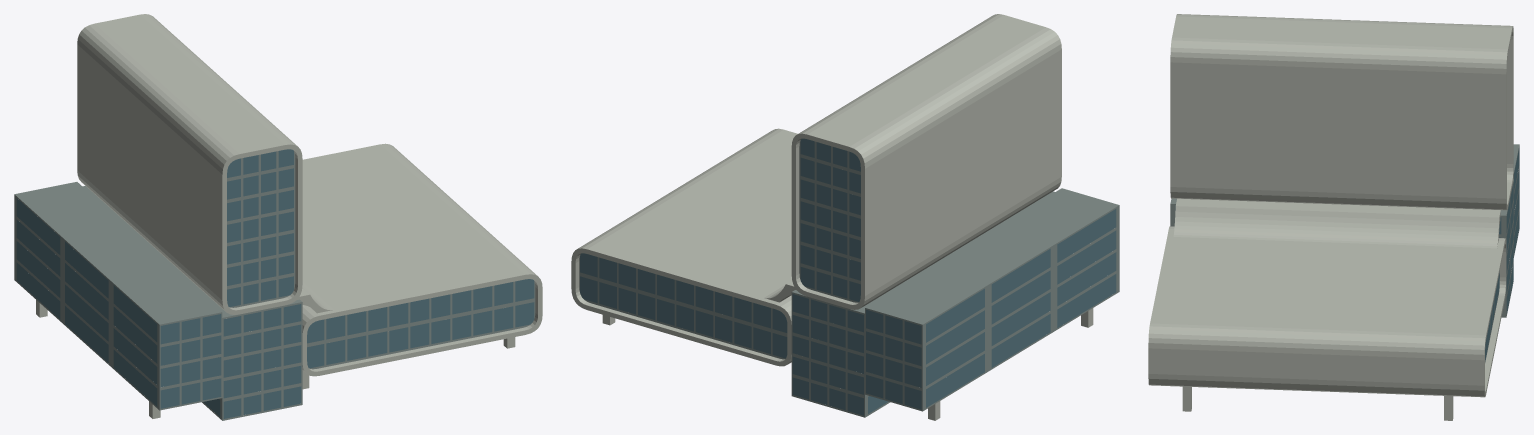
The model's file is rai-elicium-near.glb.
The picture shows the model from 3 angles, left to right: view 1: azimuth 30°, elevation 25°; view 2: azimuth 150°, elevation 25°; view 3: azimuth 270°, elevation 25°; orthographic projection. The views are drawn at different scales.
Parts seen in each view (by area): view 1: rai-elicium-0-frame, rai-elicium-0-glass, rai-elicium-0-metal, rai-elicium-0-roof; view 2: rai-elicium-0-frame, rai-elicium-0-glass, rai-elicium-0-metal, rai-elicium-0-roof; view 3: rai-elicium-0-frame, rai-elicium-0-glass, rai-elicium-0-metal.
Part boxes in pixels (x1,y1,x2,y2): rai-elicium-0-frame: [36, 14, 542, 418]; rai-elicium-0-glass: [16, 149, 534, 418]; rai-elicium-0-metal: [14, 151, 535, 420]; rai-elicium-0-roof: [14, 182, 301, 324]; rai-elicium-0-frame: [571, 14, 1093, 420]; rai-elicium-0-glass: [580, 138, 1116, 415]; rai-elicium-0-metal: [579, 141, 1119, 417]; rai-elicium-0-roof: [792, 188, 1118, 324]; rai-elicium-0-frame: [1148, 14, 1513, 420]; rai-elicium-0-glass: [1175, 148, 1519, 361]; rai-elicium-0-metal: [1170, 145, 1519, 362].
Size of the model in its own units: 71.29 by 46 by 59.42.
